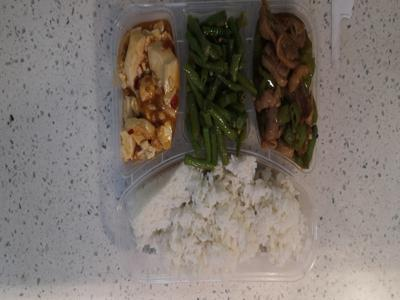cqj: (256, 11, 316, 164)
df: (115, 17, 177, 158)
rice: (127, 164, 307, 270)
